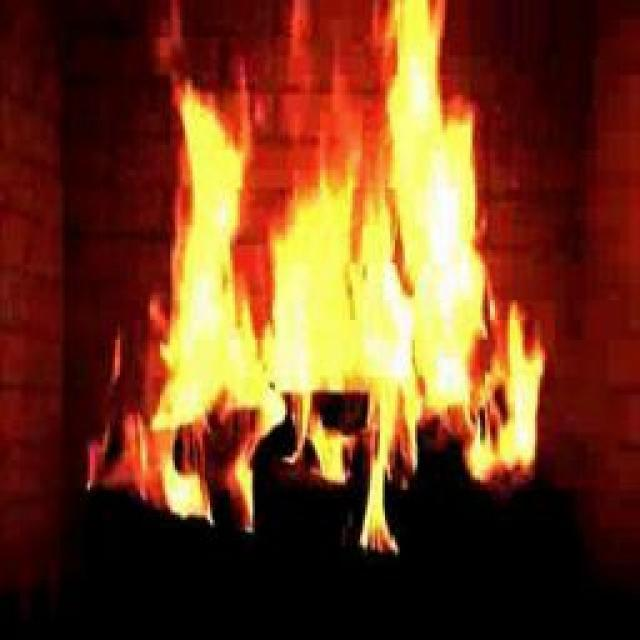Fire: (177, 64, 492, 530)
